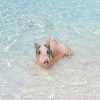heo: (30, 35, 72, 69)
